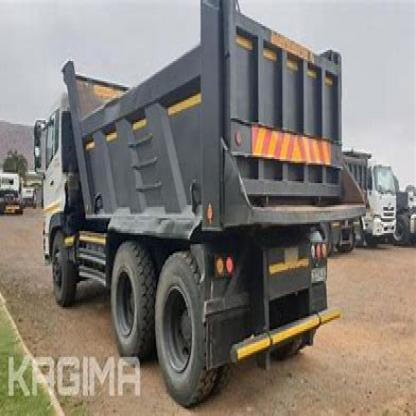dump_truck: (22, 6, 368, 406)
